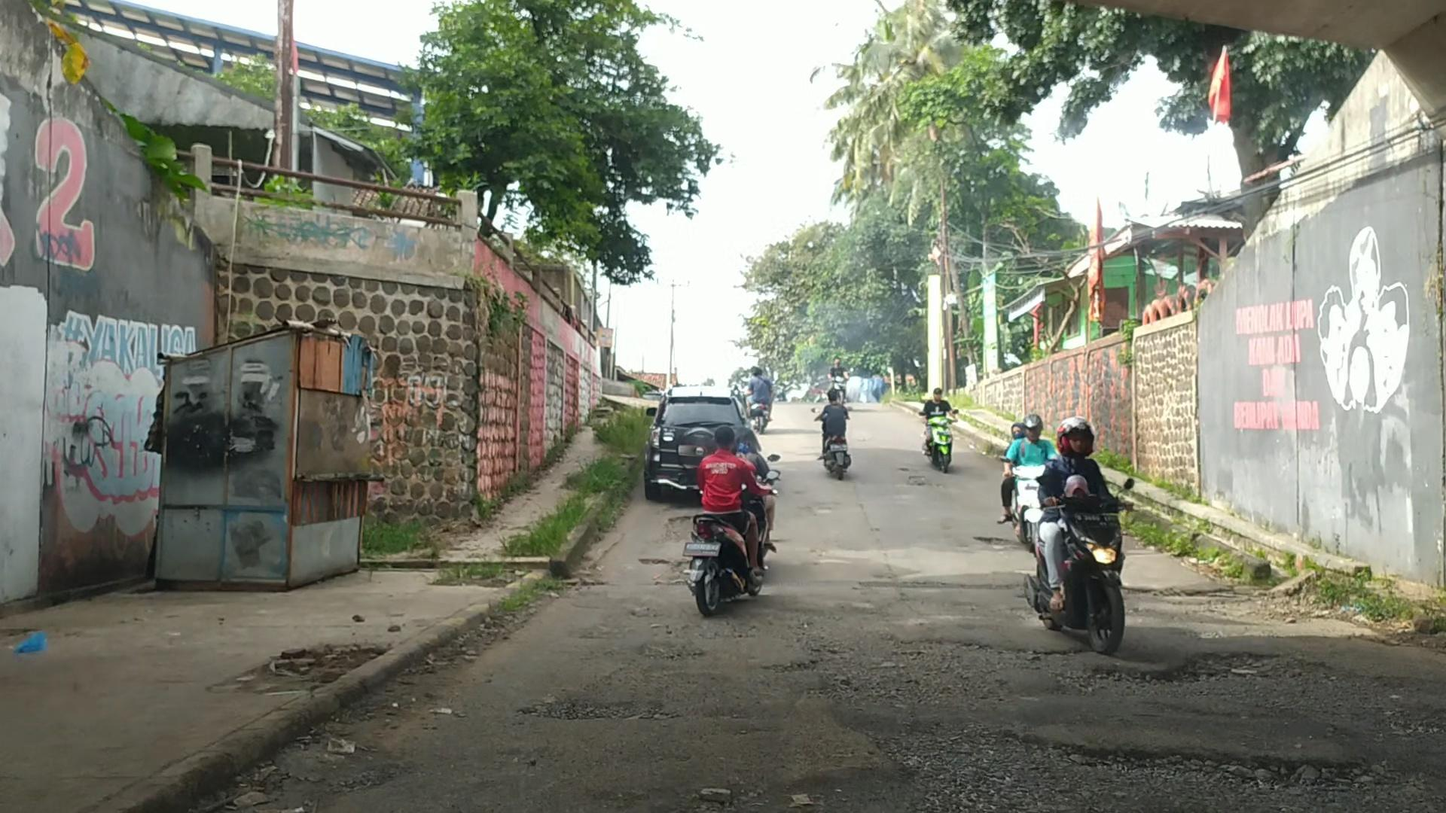pothole: (779, 715, 1446, 813), (1014, 650, 1445, 739), (773, 630, 1012, 699), (1130, 584, 1329, 633), (522, 698, 662, 721), (661, 514, 694, 542), (973, 533, 1019, 548), (904, 472, 932, 487), (637, 555, 671, 566)
